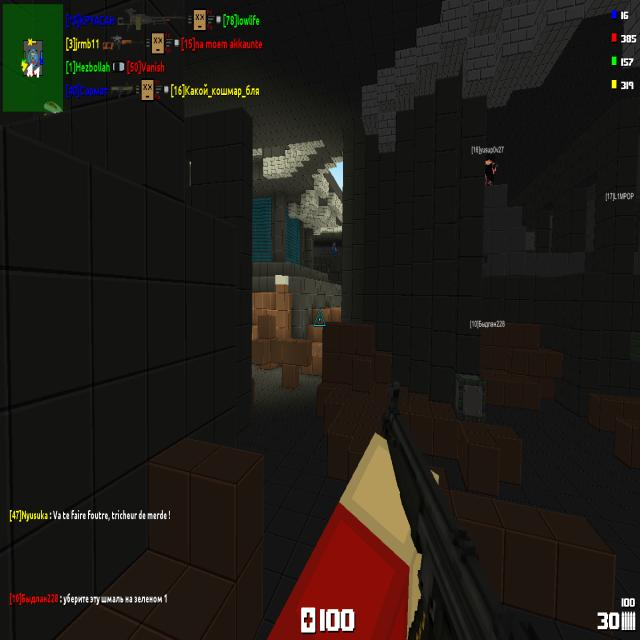enemy: (331, 241, 337, 257)
